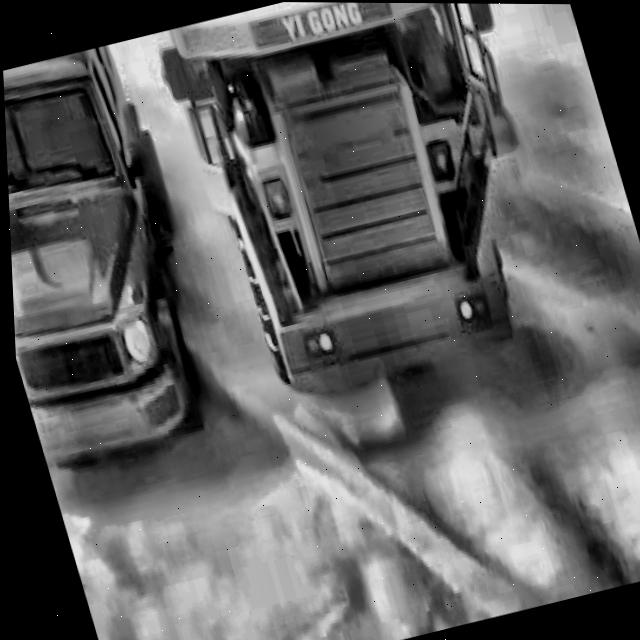dump_truck: (149, 1, 576, 419)
light_vehicle: (1, 41, 224, 468)
